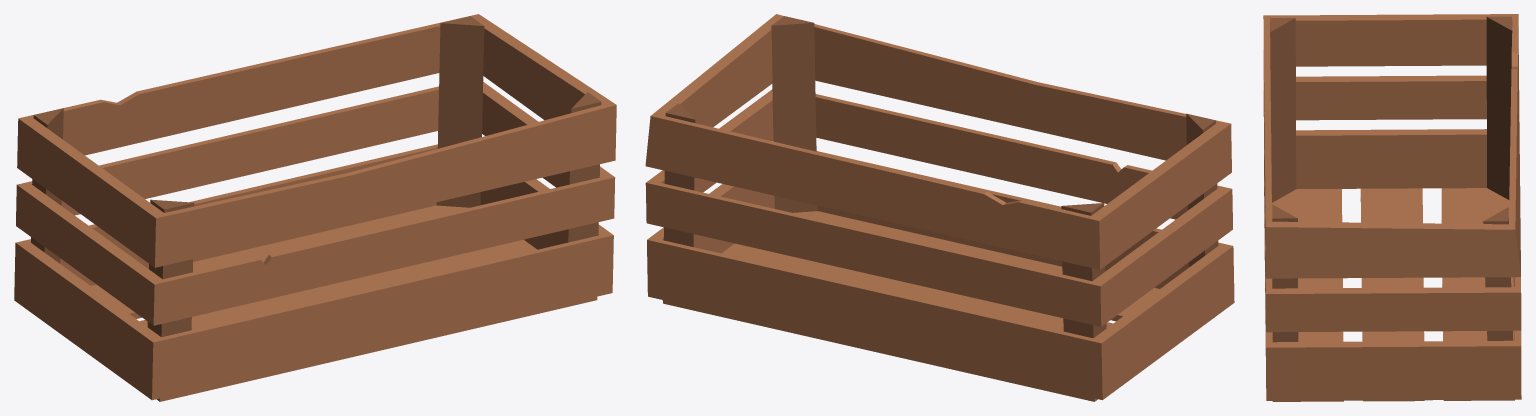
Rendered from crate.glb.
The picture shows the model from 3 angles, left to right: view 1: azimuth 30°, elevation 25°; view 2: azimuth 150°, elevation 25°; view 3: azimuth 270°, elevation 25°; orthographic projection. The views are drawn at different scales.
Visible parts, largest first — view 1: FruitCrate2; view 2: FruitCrate2; view 3: FruitCrate2.
Boxes of the visible parts, x1,y1,x2,y2 form: FruitCrate2: (14,14,616,401); FruitCrate2: (645,14,1234,401); FruitCrate2: (1263,14,1521,401).
Size of the model in its own units: 0.6047 by 0.2449 by 0.3082.
